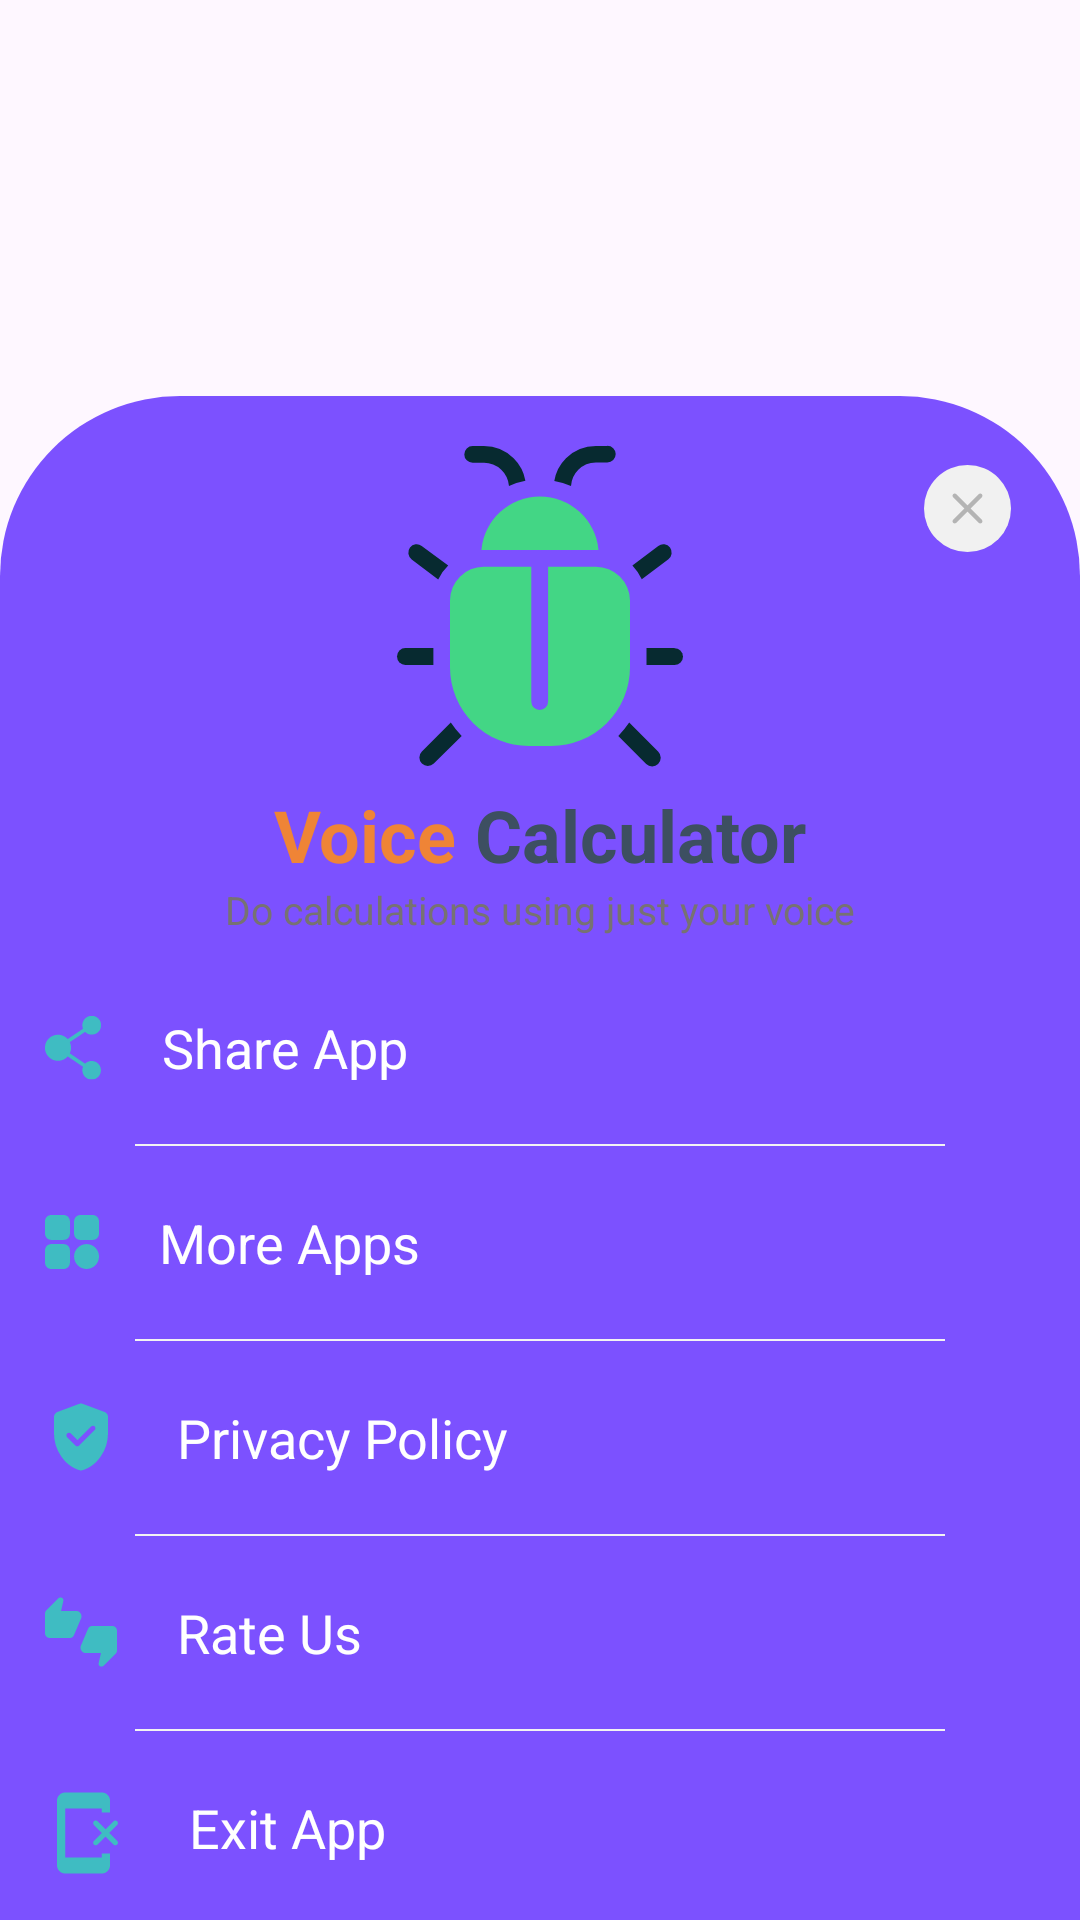

Icon click points for this 1080*1920 phone screenshot, format (x=x, y=y):
cross dialog: (x=967, y=508)
iconladybug: (x=540, y=606)
